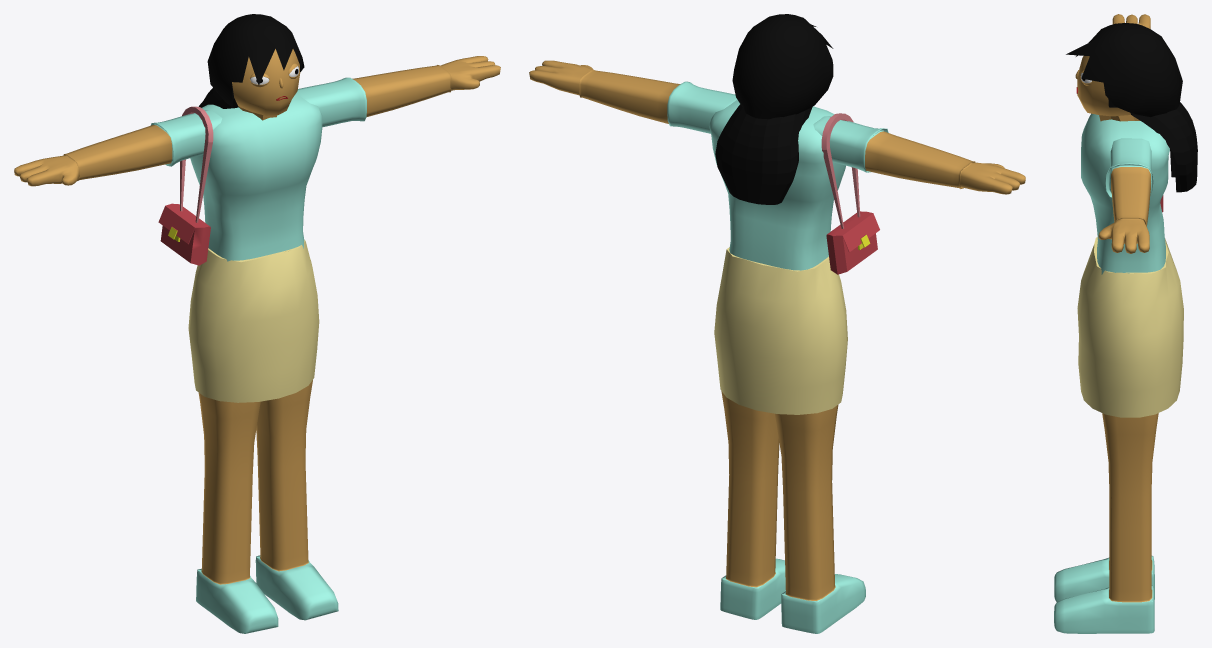
The model's file is alicia.fbx.
The picture shows the model from 3 angles, left to right: view 1: azimuth 30°, elevation 25°; view 2: azimuth 150°, elevation 25°; view 3: azimuth 270°, elevation 25°; orthographic projection. The views are drawn at different scales.
Visible parts, largest first — view 1: Cylinder002, Box006, Box007, Box008, Sphere003, Box010, Box011, Box013; view 2: Cylinder002, Sphere003, Box007, Box008, Box006, Box010, Box011, Box013; view 3: Cylinder002, Box008, Sphere003, Box006, Box011, Box007, Box010.
Part boxes in pixels (x1,y1,x2,y2): Cylinder002: [188, 240, 319, 402]; Box006: [190, 93, 322, 261]; Box007: [196, 393, 278, 633]; Box008: [255, 380, 338, 620]; Sphere003: [198, 14, 304, 120]; Box010: [14, 110, 222, 186]; Box011: [296, 56, 500, 127]; Box013: [158, 106, 213, 265]; Cylinder002: [714, 247, 847, 414]; Sphere003: [715, 14, 833, 204]; Box007: [775, 404, 865, 633]; Box008: [720, 391, 785, 619]; Box006: [709, 99, 845, 270]; Box010: [813, 116, 1025, 194]; Box011: [529, 60, 737, 133]; Box013: [821, 113, 879, 274]; Cylinder002: [1077, 237, 1183, 417]; Box008: [1054, 413, 1158, 633]; Sphere003: [1066, 23, 1197, 192]; Box006: [1081, 113, 1169, 274]; Box011: [1098, 138, 1153, 253]; Box007: [1054, 556, 1154, 601]; Box010: [1112, 14, 1150, 28].
Size of the model in its own units: 93.48 by 110 by 24.41.
